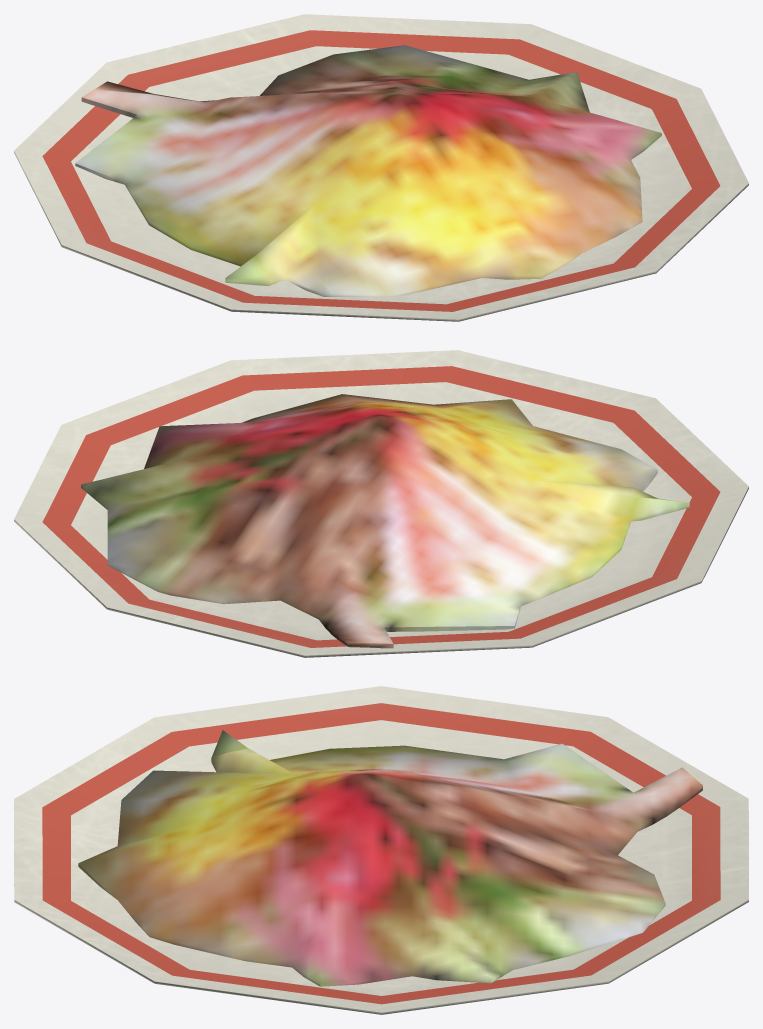
The model's file is dinerfoods05.fbx.
3 renders of one model, top to bottom at view 1: azimuth 30°, elevation 25°; view 2: azimuth 150°, elevation 25°; view 3: azimuth 270°, elevation 25°, orthographic. The views are drawn at different scales.
Visible parts, largest first — view 1: dinerfoods05; view 2: dinerfoods05; view 3: dinerfoods05.
Boxes of the visible parts, box(x1,y1,x2,y2) form: dinerfoods05: box(14, 14, 748, 321); dinerfoods05: box(14, 350, 748, 657); dinerfoods05: box(14, 686, 748, 1014).
Size of the model in its own units: 27.08 by 4.19 by 25.76.
